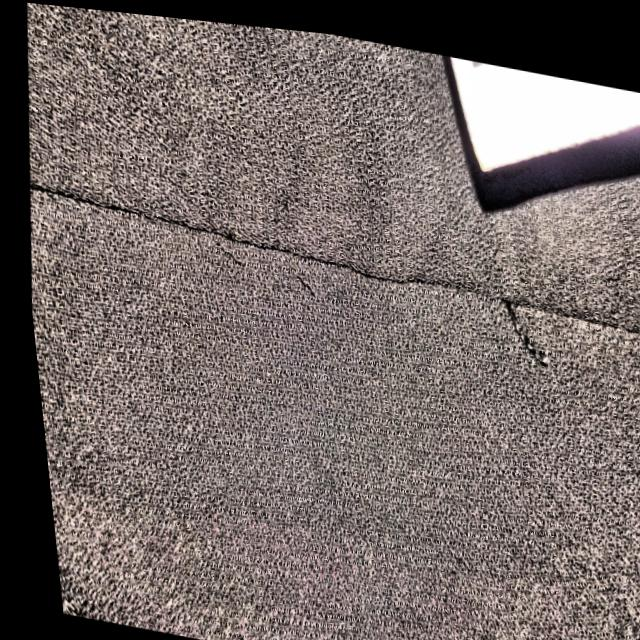Stitch: (156, 163, 343, 325), (452, 250, 581, 375)
